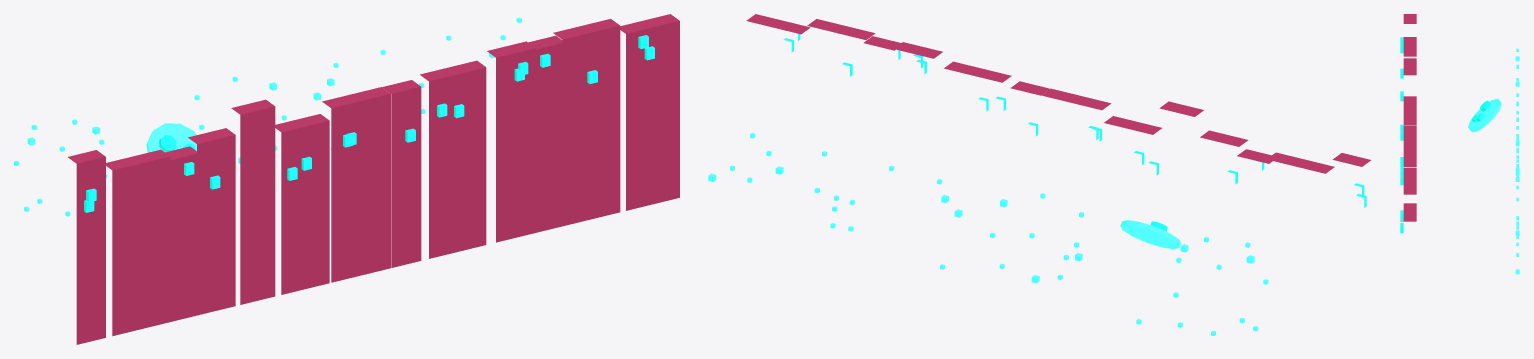
File: sky.glb
3 views of the same model, side by side, from view 1: azimuth 30°, elevation 25°; view 2: azimuth 150°, elevation 25°; view 3: azimuth 270°, elevation 25° (orthographic). The views are drawn at different scales.
Visible parts, largest first — view 1: F11, F6, F8, F1, F12, F5, F9, F4, F3, F10, F7, F0 (+2 smaller); view 2: Moon, F6, F1, F11, F8, F12, F5; view 3: Moon, F6, F1, F11, F12, F8, F9, F4, F7, F0, F5.
Boxes of the visible parts, bbox=[...] form: F11: bbox=[553, 19, 620, 225]; F6: bbox=[322, 87, 390, 282]; F8: bbox=[420, 60, 486, 258]; F1: bbox=[106, 149, 170, 336]; F12: bbox=[620, 14, 679, 210]; F5: bbox=[275, 114, 329, 294]; F9: bbox=[487, 41, 535, 242]; F4: bbox=[231, 99, 275, 304]; F3: bbox=[188, 128, 235, 315]; F10: bbox=[528, 35, 565, 232]; F7: bbox=[382, 80, 421, 267]; F0: bbox=[68, 150, 105, 344]; Moon: bbox=[1120, 220, 1180, 249]; F6: bbox=[1041, 88, 1111, 110]; F1: bbox=[1266, 152, 1334, 173]; F11: bbox=[807, 19, 875, 39]; F8: bbox=[944, 61, 1011, 82]; F12: bbox=[746, 14, 810, 34]; F5: bbox=[1104, 116, 1161, 134]; Moon: bbox=[1468, 98, 1501, 132]; F6: bbox=[1403, 105, 1416, 125]; F1: bbox=[1403, 37, 1416, 56]; F11: bbox=[1403, 175, 1416, 194]; F12: bbox=[1403, 203, 1416, 221]; F8: bbox=[1403, 136, 1416, 153]; F9: bbox=[1403, 154, 1416, 167]; F4: bbox=[1403, 63, 1416, 75]; F7: bbox=[1403, 125, 1416, 135]; F0: bbox=[1403, 14, 1416, 23]; F5: bbox=[1403, 96, 1416, 104].
Size of the model in its own units: 14.9 by 4.49 by 3.66.
